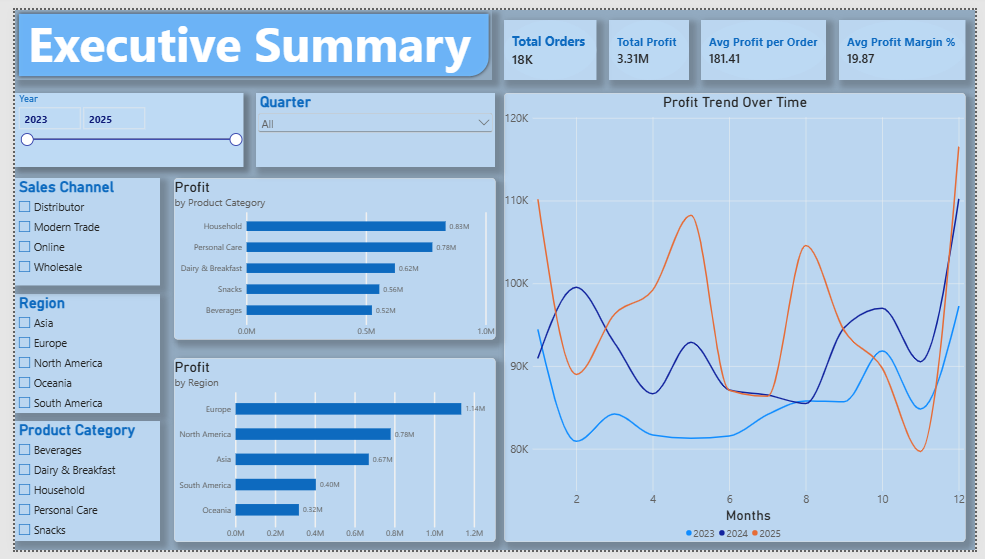

Layout of this report page (visuals, bound fields, positions):
{"tool":"powerbi","page":{"name":"Executive Summary","canvas":[1920,1080],"ordinal":0},"visuals":[{"type":"cardVisual","fields":{"Data":["_Measures.Total Profit"]},"box":[1187.5,20,160,120],"z":0},{"type":"cardVisual","fields":{"Data":["_Measures.Total Orders"]},"box":[977.5,20,185,120],"z":1000},{"type":"cardVisual","fields":{"Data":["_Measures.Avg Profit per Order"]},"box":[1372.5,20,250,120],"z":2000},{"type":"cardVisual","fields":{"Data":["_Measures.Avg Profit Margin %"]},"box":[1647.5,20,252.5,120],"z":3000},{"type":"lineChart","title":"Profit Trend Over Time","fields":{"Category":["fmcg_orders.Month"],"Series":["fmcg_orders.Year"],"Y":["_Measures.Total Profit"]},"box":[977.5,165,922.5,897.5],"z":4000},{"type":"clusteredBarChart","title":"Profit","fields":{"Category":["fmcg_orders.Region"],"Y":["_Measures.Total Profit"]},"box":[317.5,695,642.5,367.5],"z":5000},{"type":"clusteredBarChart","title":"Profit","fields":{"Category":["fmcg_orders.Product_Category"],"Y":["_Measures.Total Profit"]},"box":[317.5,335,642.5,322.5],"z":6000},{"type":"slicer","fields":{"Values":["fmcg_orders.Year"]},"box":[0,165,457.3,148.2],"z":7000},{"type":"slicer","fields":{"Values":["fmcg_orders.Quarter"]},"box":[482.5,165,477.5,147.5],"z":8000},{"type":"slicer","fields":{"Values":["fmcg_orders.Region"]},"box":[0,567.5,290,237.5],"z":9000},{"type":"slicer","fields":{"Values":["fmcg_orders.Product_Category"]},"box":[0,822.5,290,240],"z":10000},{"type":"slicer","fields":{"Values":["fmcg_orders.Sales_Channel"]},"box":[0,335,290,215],"z":11000},{"type":"shape","box":[0,0,955,140],"z":12000},{"type":"textbox","box":[25,0,915,140],"z":13000}]}

Visuals, with their boxes in screenshot pixels (x1, y1, x2, y2), scaled from the page's 1920x1080 canvas onto the 985x559 screenshot:
cardVisual - _Measures.Total Profit: [x1=609, y1=10, x2=691, y2=72]
cardVisual - _Measures.Total Orders: [x1=501, y1=10, x2=596, y2=72]
cardVisual - _Measures.Avg Profit per Order: [x1=704, y1=10, x2=832, y2=72]
cardVisual - _Measures.Avg Profit Margin %: [x1=845, y1=10, x2=975, y2=72]
"Profit Trend Over Time" lineChart: [x1=501, y1=85, x2=975, y2=550]
"Profit" clusteredBarChart: [x1=163, y1=360, x2=493, y2=550]
"Profit" clusteredBarChart: [x1=163, y1=173, x2=493, y2=340]
slicer - fmcg_orders.Year: [x1=0, y1=85, x2=235, y2=162]
slicer - fmcg_orders.Quarter: [x1=248, y1=85, x2=493, y2=162]
slicer - fmcg_orders.Region: [x1=0, y1=294, x2=149, y2=417]
slicer - fmcg_orders.Product_Category: [x1=0, y1=426, x2=149, y2=550]
slicer - fmcg_orders.Sales_Channel: [x1=0, y1=173, x2=149, y2=285]
shape: [x1=0, y1=0, x2=490, y2=72]
textbox: [x1=13, y1=0, x2=482, y2=72]
